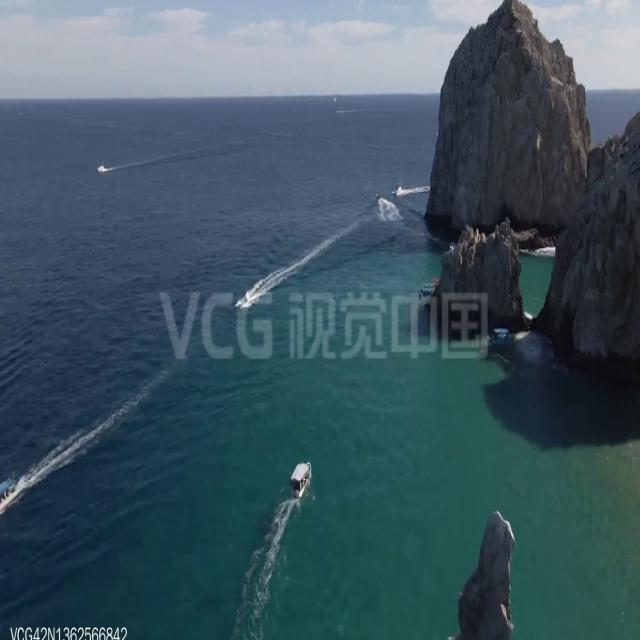houseboat: (290, 456, 314, 501), (0, 471, 19, 518), (485, 322, 515, 350), (418, 275, 437, 301), (392, 182, 403, 200), (243, 289, 252, 307), (375, 188, 383, 208), (96, 162, 106, 174)
